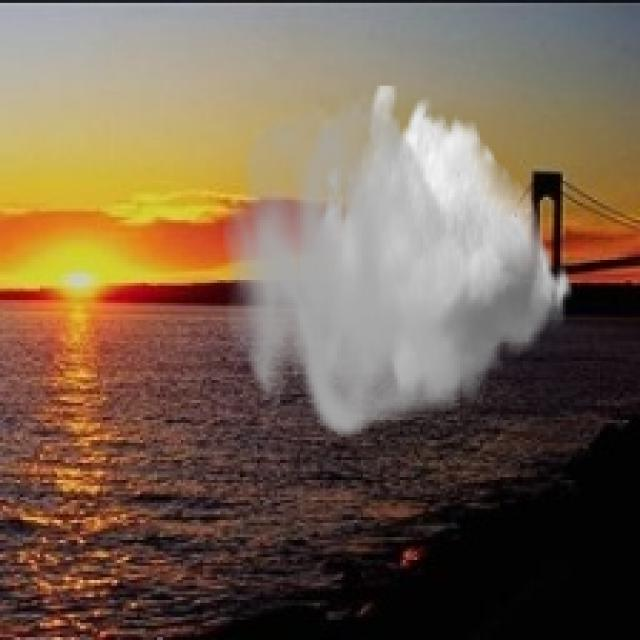smoke: (223, 86, 574, 443)
